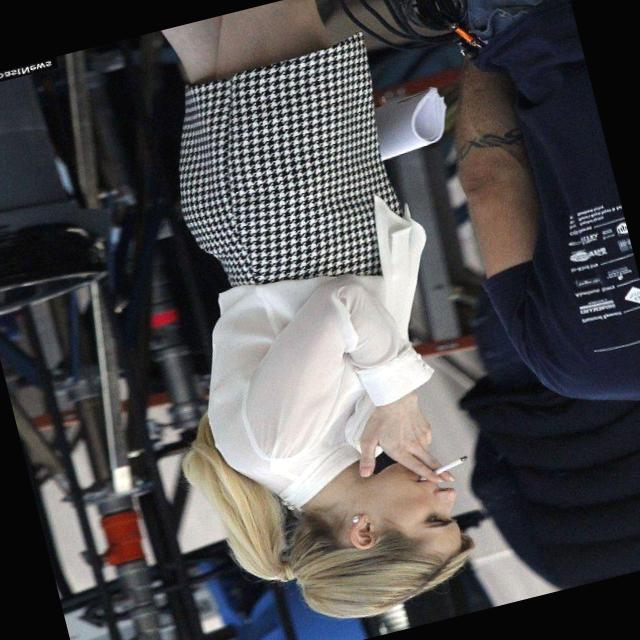cigarette: (416, 450, 481, 494)
